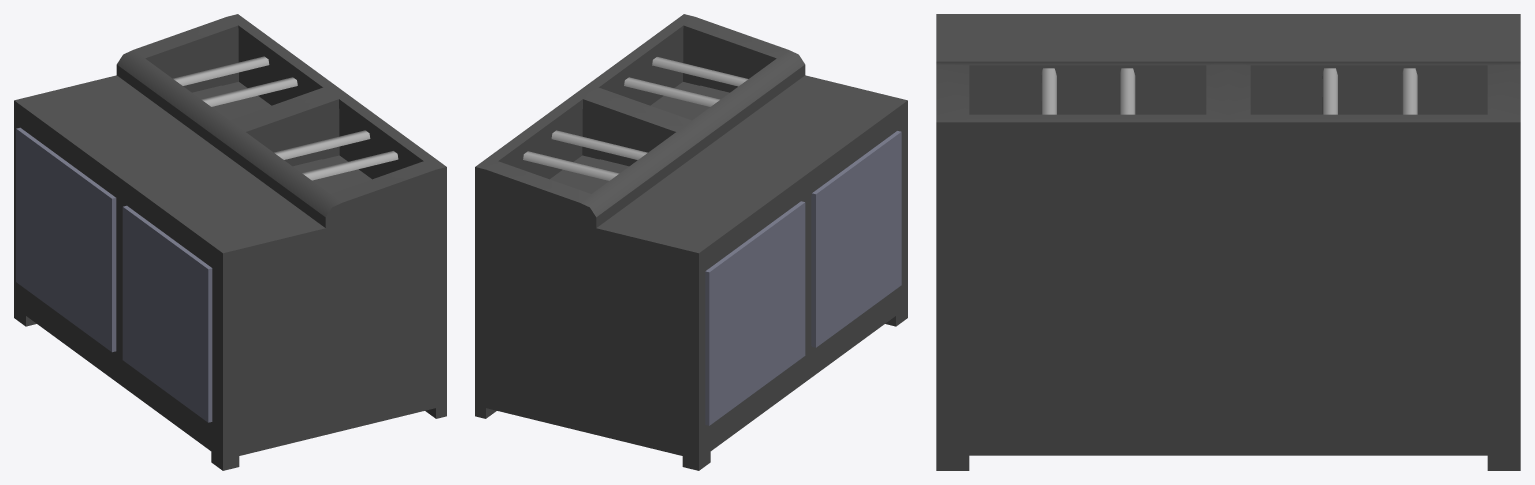
Rendered from counter_cooler.FBX.
3 views of the same model, side by side, from view 1: azimuth 30°, elevation 25°; view 2: azimuth 150°, elevation 25°; view 3: azimuth 270°, elevation 25° (orthographic). The views are drawn at different scales.
Visible parts, largest first — view 1: Box001, Box002, Box004, Box003, divider003, divider001, divider002, divider004; view 2: Box002, Box001, Box004, Box003, divider004, divider002, divider001, divider003; view 3: Box002, Box001, divider001, divider004, divider002, divider003.
Part boxes in pixels (left/top/right/bottom): Box001: left=118, top=90, right=446, bottom=470; Box002: left=14, top=14, right=341, bottom=383; Box004: left=16, top=127, right=116, bottom=352; Box003: left=122, top=205, right=212, bottom=422; divider003: left=201, top=77, right=297, bottom=106; divider001: left=274, top=130, right=370, bottom=159; divider002: left=302, top=151, right=398, bottom=180; divider004: left=173, top=56, right=269, bottom=85; Box002: left=475, top=90, right=803, bottom=470; Box001: left=580, top=14, right=907, bottom=383; Box004: left=705, top=201, right=805, bottom=425; Box003: left=811, top=131, right=901, bottom=347; divider004: left=523, top=151, right=619, bottom=180; divider002: left=652, top=57, right=748, bottom=86; divider001: left=624, top=77, right=719, bottom=106; divider003: left=551, top=130, right=647, bottom=159; Box002: left=1228, top=14, right=1520, bottom=470; Box001: left=936, top=14, right=1228, bottom=470; divider001: left=1119, top=68, right=1135, bottom=114; divider004: left=1401, top=68, right=1417, bottom=114; divider002: left=1041, top=68, right=1056, bottom=114; divider003: left=1322, top=68, right=1337, bottom=114.
Size of the model in its own units: 84.87 by 88.68 by 135.
